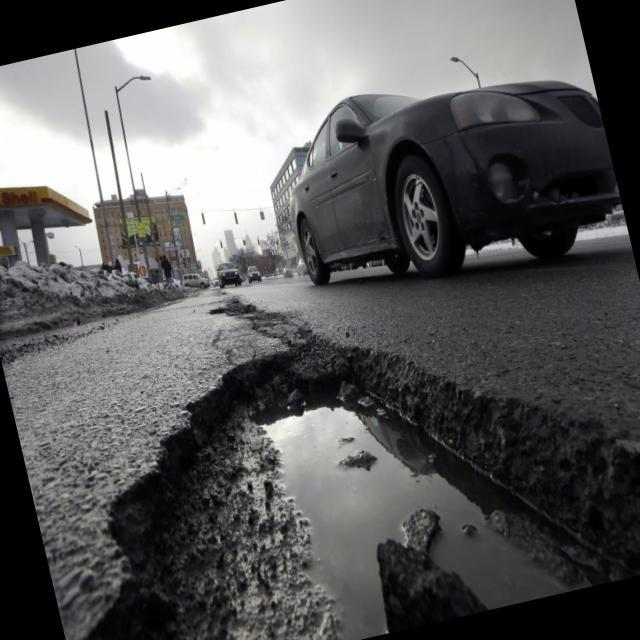Pothole: (8, 230, 640, 640)
